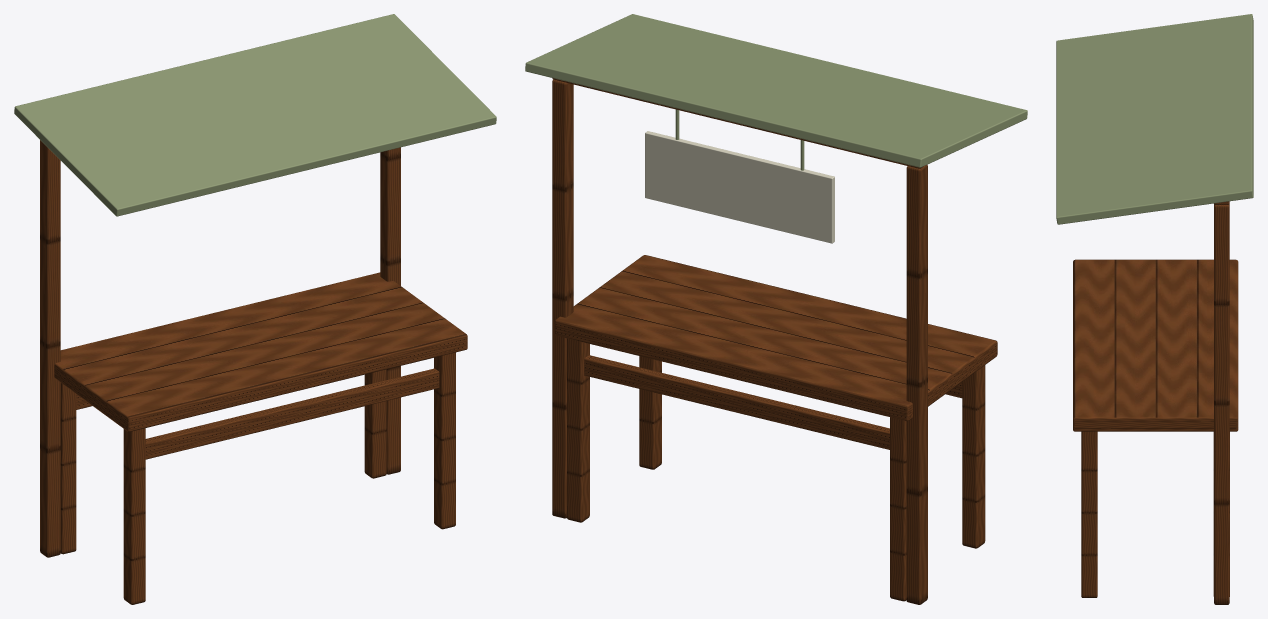
The picture shows the model from 3 angles, left to right: view 1: azimuth 30°, elevation 25°; view 2: azimuth 150°, elevation 25°; view 3: azimuth 270°, elevation 25°; orthographic projection. The views are drawn at different scales.
Visible parts, largest first — view 1: folding-trader-stall; view 2: folding-trader-stall; view 3: folding-trader-stall.
Part boxes in pixels (x1,y1,x2,y2): folding-trader-stall: (14,14,496,604); folding-trader-stall: (525,14,1027,604); folding-trader-stall: (1056,14,1253,604).
Size of the model in its own units: 1.9 by 2.11 by 0.8944.
3 materials, 1 textured.
